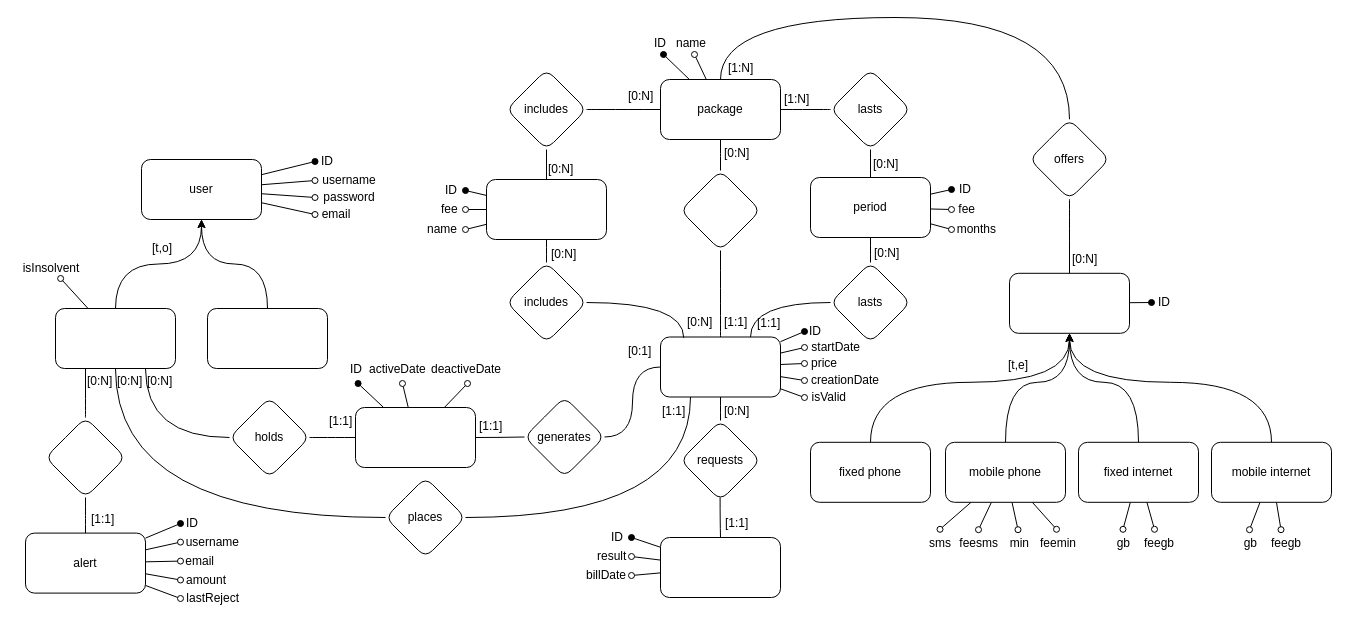
Some shapes in this 1349 by 630 pixel diagram are drawn without their labels. Each missing label, with the box of its shape:
bill: (660, 536, 780, 598)
cause: (44, 416, 126, 498)
contains: (680, 170, 760, 250)
customer: (54, 308, 176, 368)
employee: (206, 308, 328, 368)
optional: (486, 178, 606, 240)
order: (660, 336, 780, 397)
schedule: (354, 406, 476, 468)
service: (1008, 272, 1130, 333)
